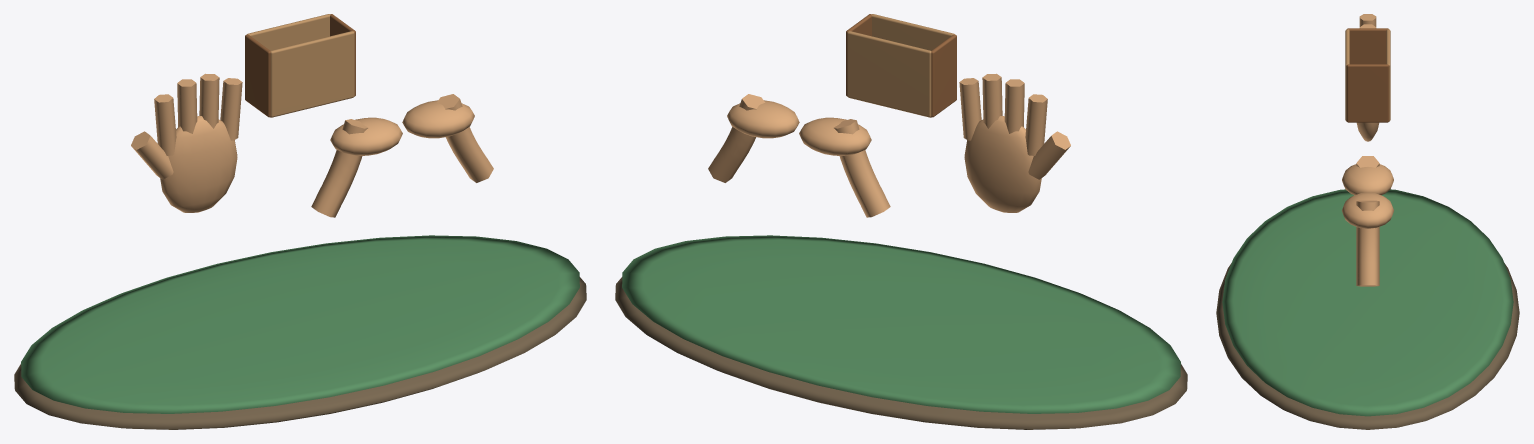
File: complete-second-receiving-acceptance.glb
The picture shows the model from 3 angles, left to right: view 1: azimuth 30°, elevation 25°; view 2: azimuth 150°, elevation 25°; view 3: azimuth 270°, elevation 25°; orthographic projection. The views are drawn at different scales.
Visible parts, largest first — view 1: complete-second-receiving-acceptance_surface_01, complete-second-receiving-acceptance_surface_02, complete-second-receiving-acceptance_surface_00, complete-second-receiving-acceptance_surface_03, complete-second-receiving-acceptance_surface_04; view 2: complete-second-receiving-acceptance_surface_01, complete-second-receiving-acceptance_surface_02, complete-second-receiving-acceptance_surface_00, complete-second-receiving-acceptance_surface_03, complete-second-receiving-acceptance_surface_04; view 3: complete-second-receiving-acceptance_surface_01, complete-second-receiving-acceptance_surface_00, complete-second-receiving-acceptance_surface_02, complete-second-receiving-acceptance_surface_04, complete-second-receiving-acceptance_surface_03.
Boxes of the visible parts, x1,y1,x2,y2 form: complete-second-receiving-acceptance_surface_01: [21, 235, 579, 413]; complete-second-receiving-acceptance_surface_02: [131, 73, 493, 217]; complete-second-receiving-acceptance_surface_00: [14, 277, 586, 429]; complete-second-receiving-acceptance_surface_03: [247, 14, 354, 117]; complete-second-receiving-acceptance_surface_04: [245, 14, 355, 117]; complete-second-receiving-acceptance_surface_01: [622, 235, 1180, 413]; complete-second-receiving-acceptance_surface_02: [708, 73, 1070, 217]; complete-second-receiving-acceptance_surface_00: [615, 277, 1187, 429]; complete-second-receiving-acceptance_surface_03: [847, 14, 954, 117]; complete-second-receiving-acceptance_surface_04: [846, 14, 956, 117]; complete-second-receiving-acceptance_surface_01: [1222, 189, 1513, 416]; complete-second-receiving-acceptance_surface_00: [1216, 263, 1519, 429]; complete-second-receiving-acceptance_surface_02: [1342, 14, 1393, 286]; complete-second-receiving-acceptance_surface_04: [1346, 28, 1389, 122]; complete-second-receiving-acceptance_surface_03: [1345, 29, 1390, 121].
Bounding box in the file's own units: 4.56 × 2.55 × 2.5.
